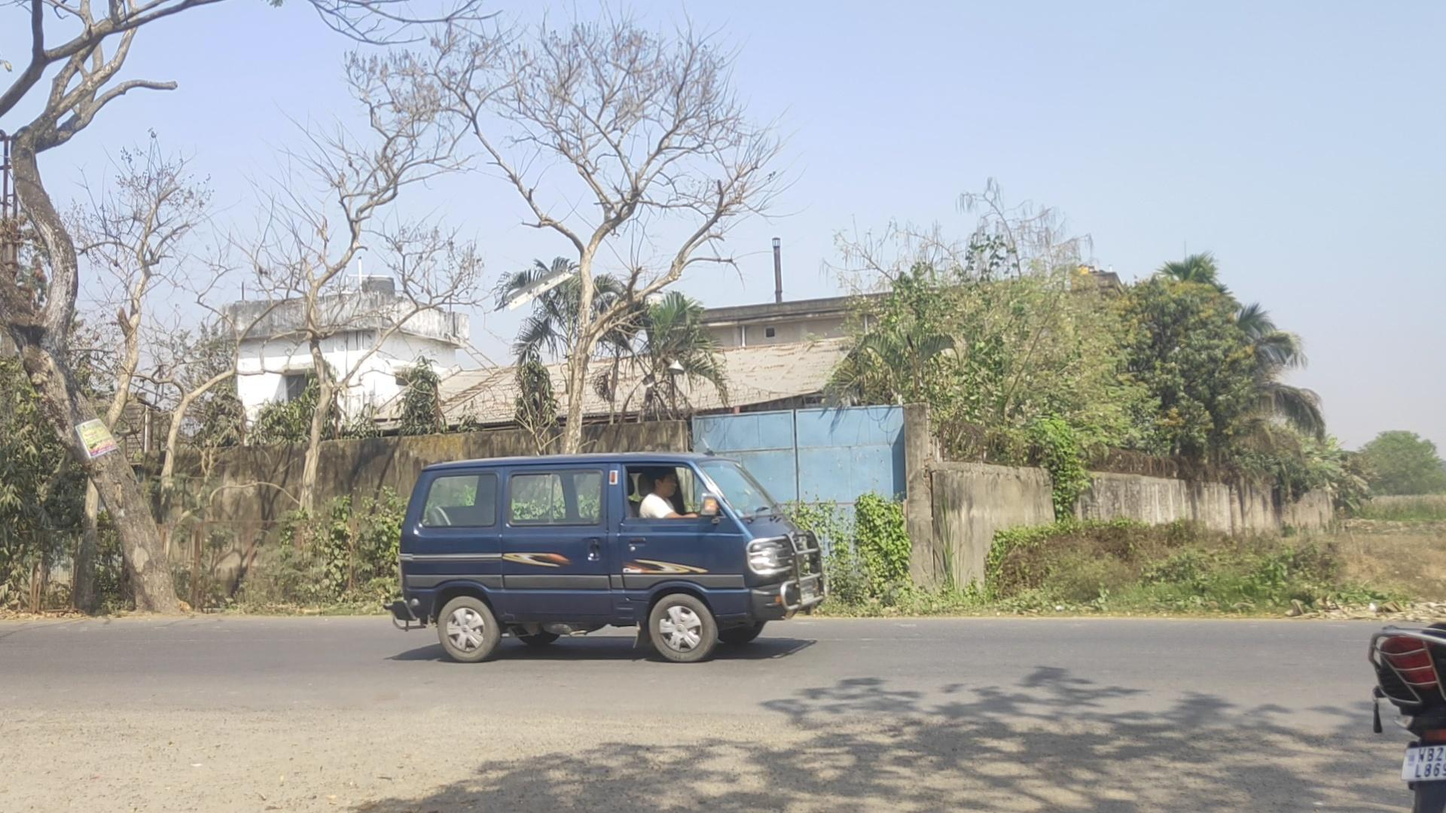van: (383, 449, 825, 663)
